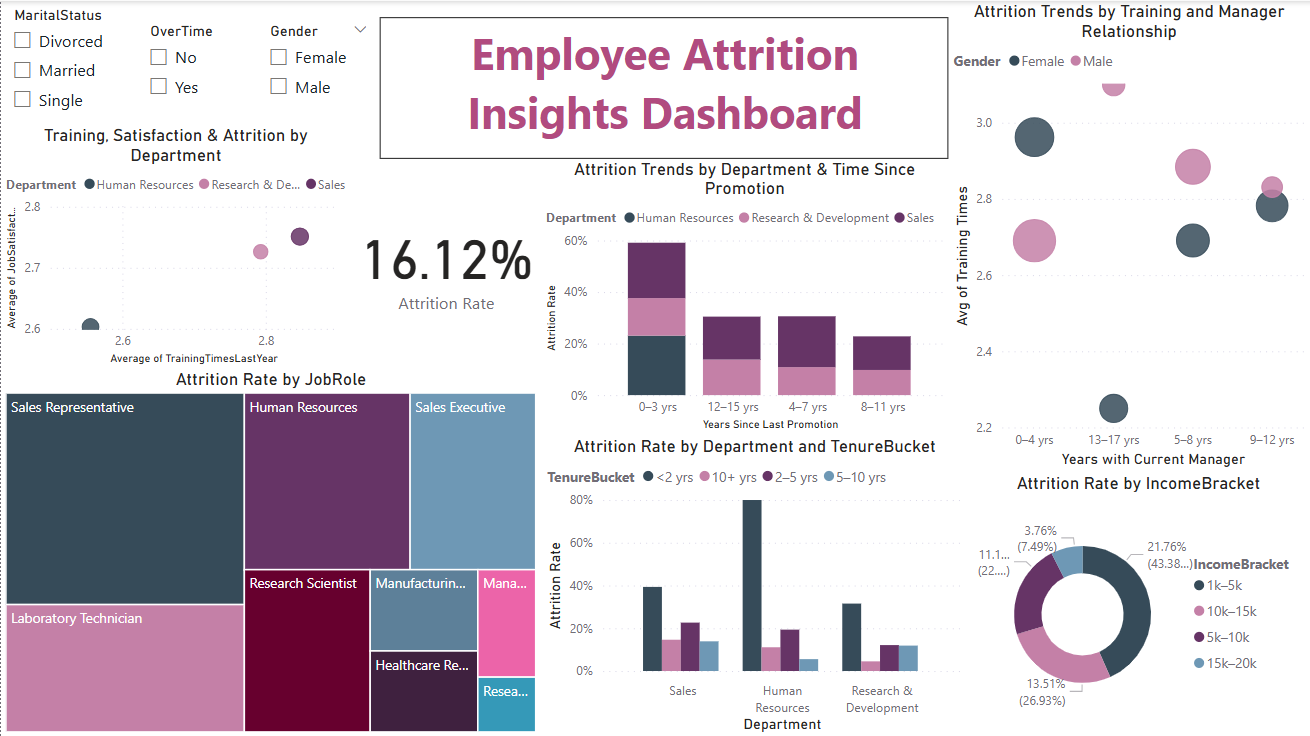

Layout of this report page (visuals, bound fields, positions):
{"tool":"powerbi","page":{"name":"Page 1","canvas":[1280,720],"ordinal":0},"visuals":[{"type":"card","fields":{"Values":["HR_Analytics.Attrition Rate"]},"box":[342.3,154,187,205.4],"z":0},{"type":"treemap","fields":{"Group":["HR_Analytics.JobRole"],"Values":["HR_Analytics.Attrition Rate"]},"box":[0,359.4,528.1,360.6],"z":1000},{"type":"clusteredColumnChart","fields":{"Category":["HR_Analytics.Department"],"Y":["HR_Analytics.Attrition Rate"],"Series":["HR_Analytics.TenureBucket"]},"box":[529.3,425.4,415.6,294.6],"z":2000},{"type":"donutChart","fields":{"Category":["HR_Analytics.IncomeBracket"],"Y":["HR_Analytics.Attrition Rate"]},"box":[944.9,460.8,334.9,259.2],"z":3000},{"type":"scatterChart","title":"Attrition Trends by Training and Manager Relationship","fields":{"Size":["HR_Analytics.Attrition Rate"],"X":["HR_Analytics.YearsWithCurrMgr_Bucket"],"Y":["Avg(HR_Analytics.TrainingTimesLastYear)"],"Series":["HR_Analytics.Gender"]},"box":[926.6,0,353.3,460.8],"z":4000},{"type":"scatterChart","title":"Training, Satisfaction & Attrition by Department","fields":{"X":["Avg(HR_Analytics.TrainingTimesLastYear)"],"Y":["Avg(HR_Analytics.JobSatisfaction)"],"Series":["HR_Analytics.Department"],"Size":["HR_Analytics.Attrition Rate"]},"box":[0,121,342.3,239.6],"z":5000},{"type":"columnChart","title":"Attrition Trends by Department & Time Since Promotion","fields":{"Category":["HR_Analytics.YearsSinceLastProm_Bucket"],"Y":["HR_Analytics.Attrition Rate"],"Series":["HR_Analytics.Department"]},"box":[528.1,154,398.5,271.4],"z":6000},{"type":"slicer","fields":{"Values":["HR_Analytics.Gender"]},"box":[250.6,15.9,119.8,95.3],"z":7000},{"type":"slicer","fields":{"Values":["HR_Analytics.OverTime"]},"box":[133.2,15.9,117.4,95.3],"z":8000},{"type":"slicer","fields":{"Values":["HR_Analytics.MaritalStatus"]},"box":[0,0,133.2,121],"z":9000},{"type":"textbox","box":[370.4,15.9,556.2,138.1],"z":9001}]}

Visuals, with their boxes in screenshot pixels (x1, y1, x2, y2), scaled from the page's 1280x720 canvas onto the 1310x736 screenshot:
card - HR_Analytics.Attrition Rate: pyautogui.locateOnScreen(350, 157, 542, 367)
treemap - HR_Analytics.JobRole x HR_Analytics.Attrition Rate: pyautogui.locateOnScreen(0, 367, 540, 735)
clusteredColumnChart - HR_Analytics.Department x HR_Analytics.Attrition Rate: pyautogui.locateOnScreen(542, 435, 967, 735)
donutChart - HR_Analytics.IncomeBracket x HR_Analytics.Attrition Rate: pyautogui.locateOnScreen(967, 471, 1309, 735)
"Attrition Trends by Training and Manager Relationship" scatterChart: pyautogui.locateOnScreen(948, 0, 1309, 471)
"Training, Satisfaction & Attrition by Department" scatterChart: pyautogui.locateOnScreen(0, 124, 350, 369)
"Attrition Trends by Department & Time Since Promotion" columnChart: pyautogui.locateOnScreen(540, 157, 948, 435)
slicer - HR_Analytics.Gender: pyautogui.locateOnScreen(256, 16, 379, 114)
slicer - HR_Analytics.OverTime: pyautogui.locateOnScreen(136, 16, 256, 114)
slicer - HR_Analytics.MaritalStatus: pyautogui.locateOnScreen(0, 0, 136, 124)
textbox: pyautogui.locateOnScreen(379, 16, 948, 157)
